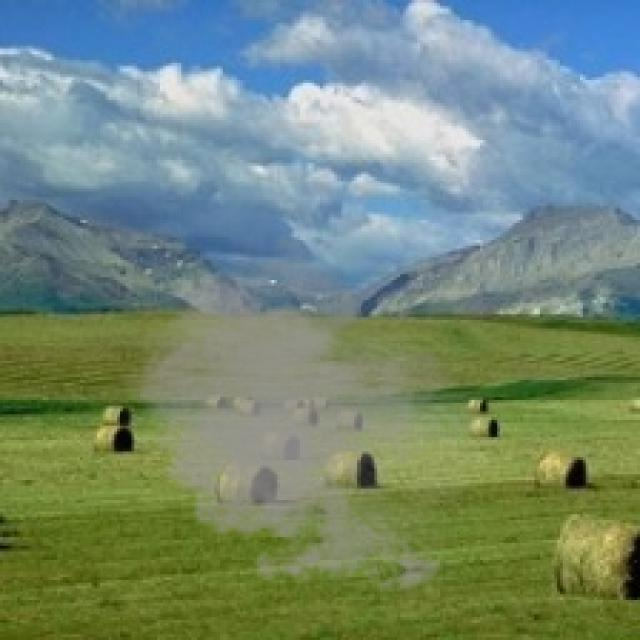smoke: (111, 234, 506, 603)
